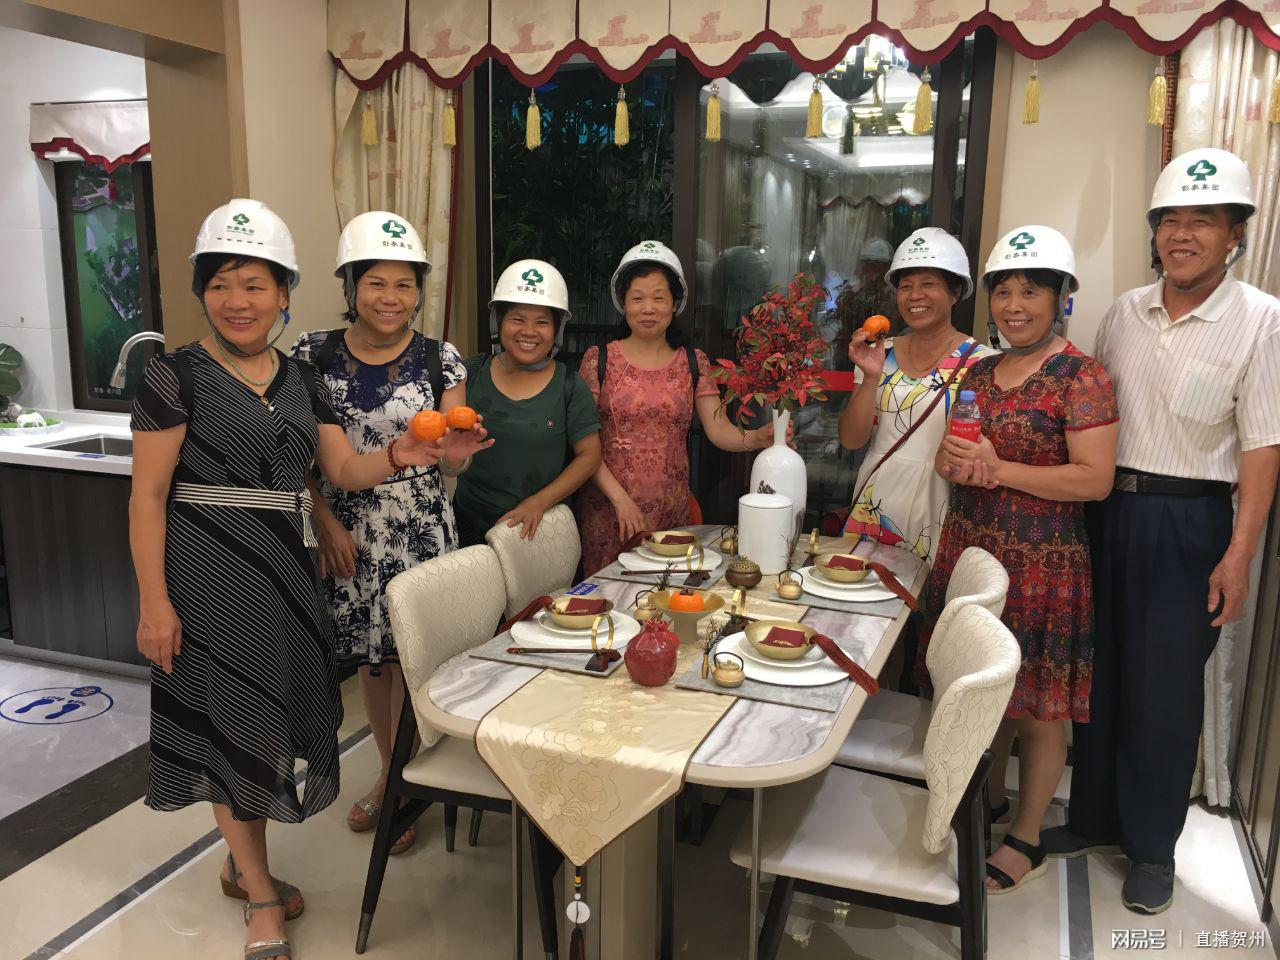helmet: (182, 190, 305, 346), (1141, 138, 1255, 292), (324, 203, 441, 343), (978, 217, 1083, 349), (482, 252, 572, 369), (603, 230, 696, 342), (881, 217, 974, 325)
